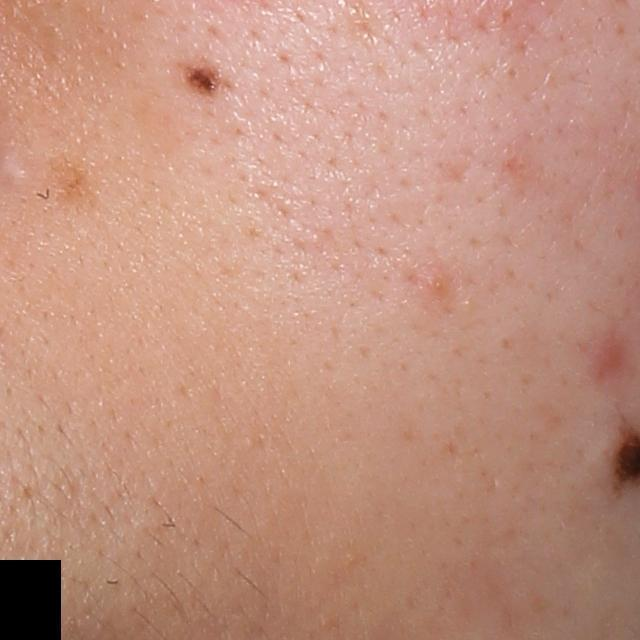nevus: (172, 57, 232, 96)
